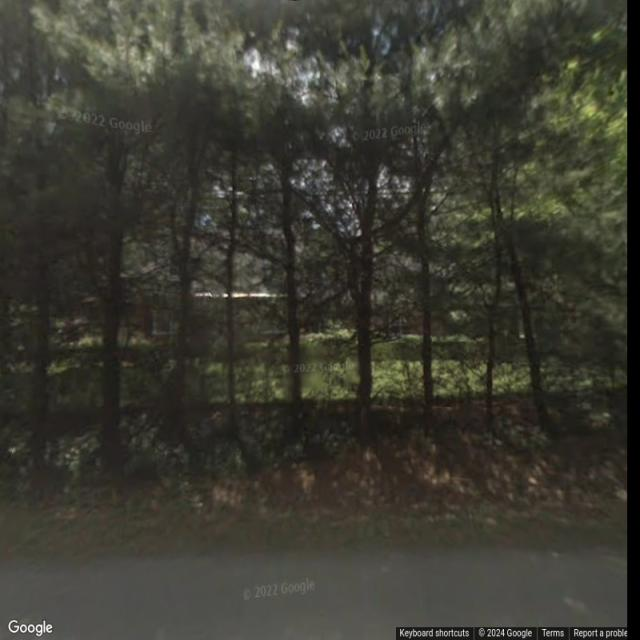House: (79, 253, 565, 358)
